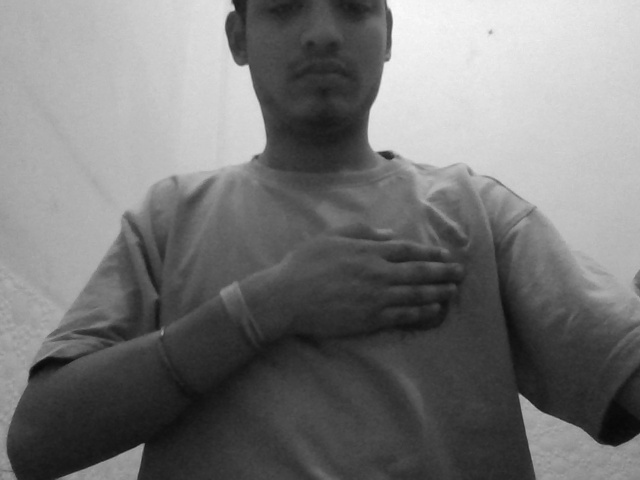Sorry: (272, 203, 507, 359)
